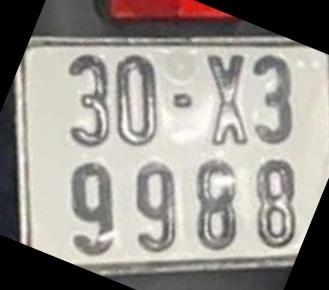-: (174, 95, 190, 106)
0: (117, 56, 157, 143)
3: (70, 56, 110, 145), (255, 55, 292, 144)
8: (197, 161, 236, 251), (256, 161, 294, 247)
9: (72, 165, 113, 255), (135, 165, 176, 250)
X: (207, 55, 247, 143)
